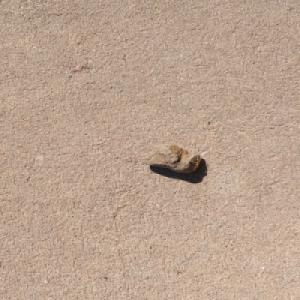Rock: (139, 143, 202, 173)
